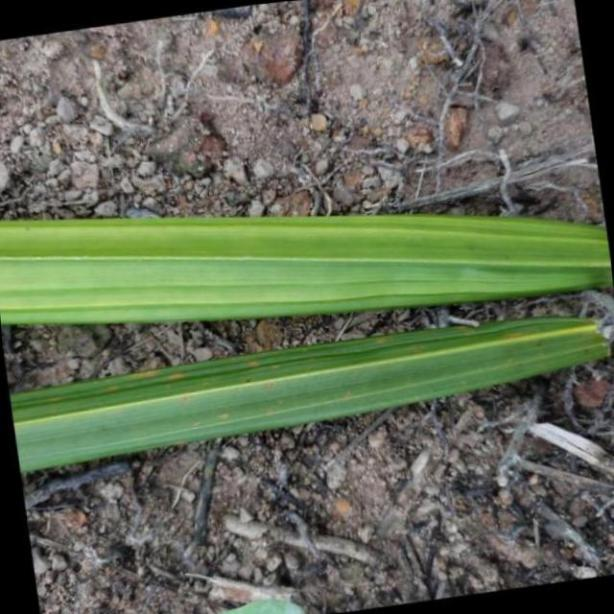nitrogen: (0, 316, 614, 472), (0, 213, 614, 323)
